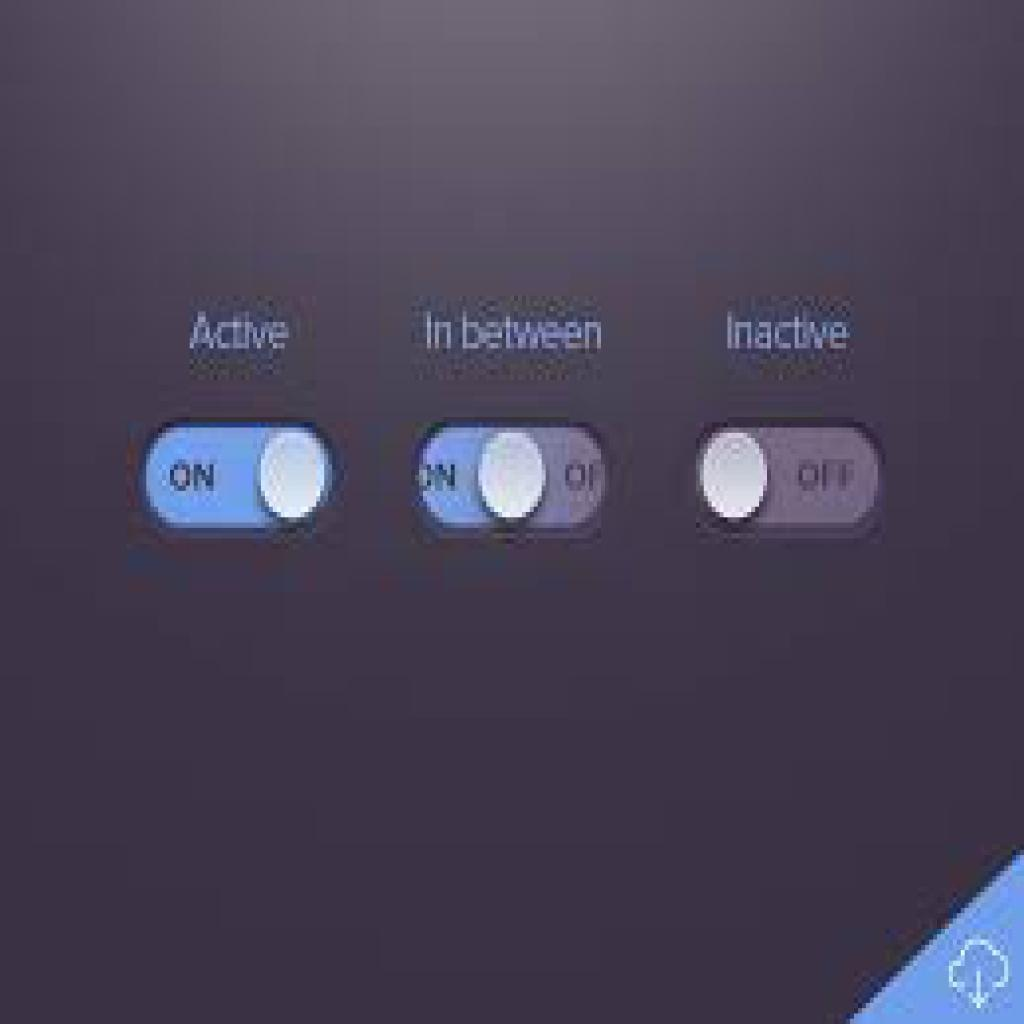switch: (407, 424, 621, 533), (693, 426, 895, 539), (149, 426, 333, 536)
